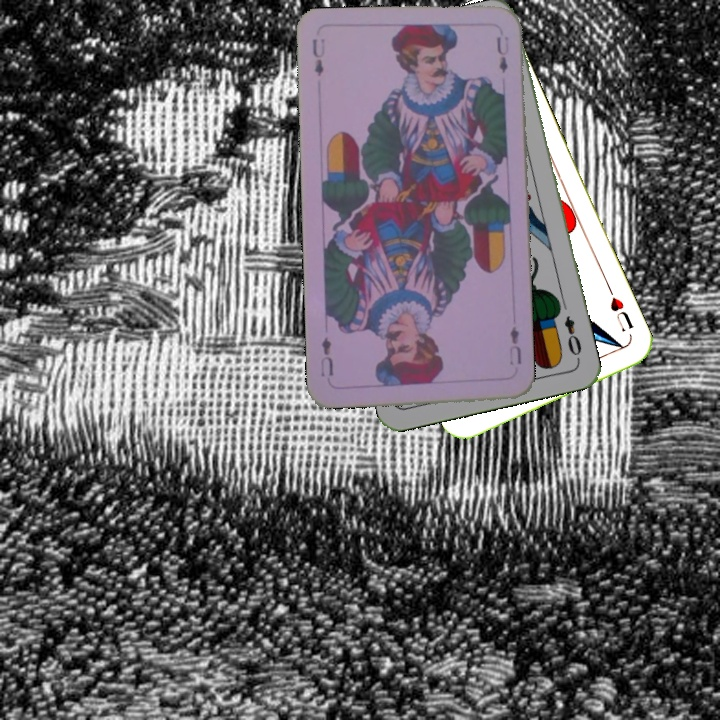EO: (560, 312, 584, 363)
EU: (505, 322, 524, 367), (308, 35, 327, 79)
HU: (604, 283, 636, 334)
